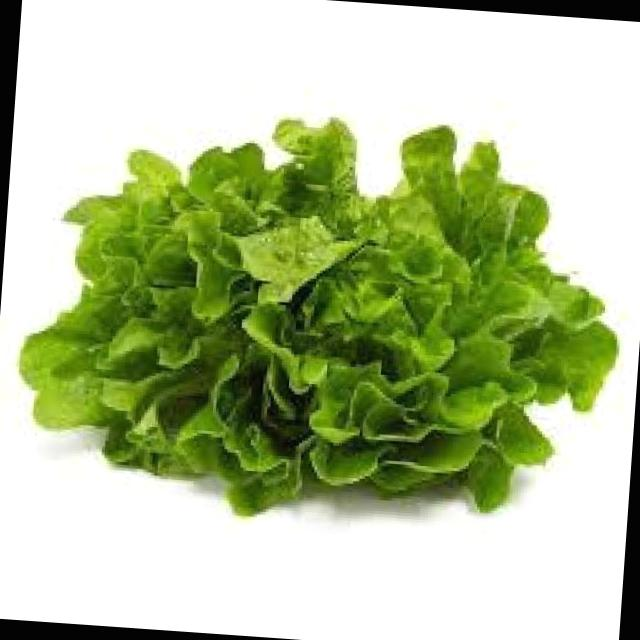Lettuce-Ready-to-Harvest: (21, 118, 615, 513)
